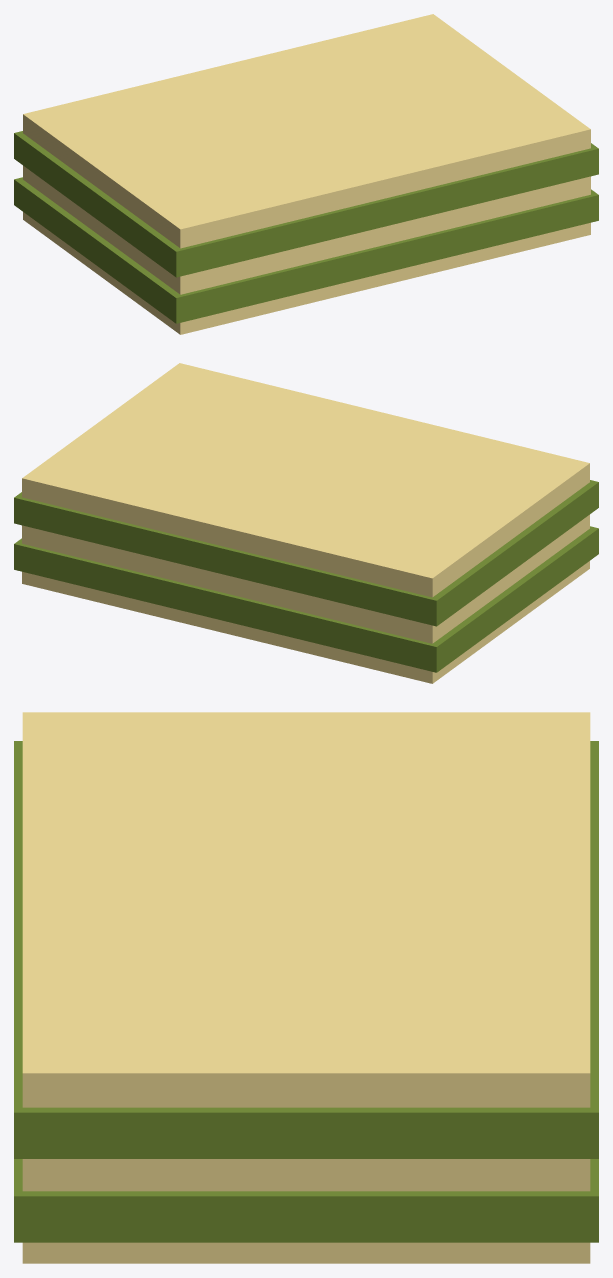
File: teste.glb
3 renders of one model, top to bottom at view 1: azimuth 30°, elevation 25°; view 2: azimuth 150°, elevation 25°; view 3: azimuth 270°, elevation 25°, orthographic. The views are drawn at different scales.
Parts seen in each view (by area): view 1: Cube, Cube.002, Cube.001; view 2: Cube, Cube.002, Cube.001; view 3: Cube, Cube.001, Cube.002.
Part boxes in pixels (bbox=[...]): Cube: bbox=[23, 14, 590, 334]; Cube.002: bbox=[14, 177, 598, 323]; Cube.001: bbox=[14, 131, 598, 277]; Cube: bbox=[22, 363, 589, 683]; Cube.002: bbox=[14, 526, 598, 672]; Cube.001: bbox=[14, 480, 598, 626]; Cube: bbox=[22, 712, 590, 1263]; Cube.001: bbox=[14, 741, 598, 1158]; Cube.002: bbox=[14, 1159, 598, 1242].
Bounding box in the file's own units: 3.1 × 0.7391 × 2.06.
